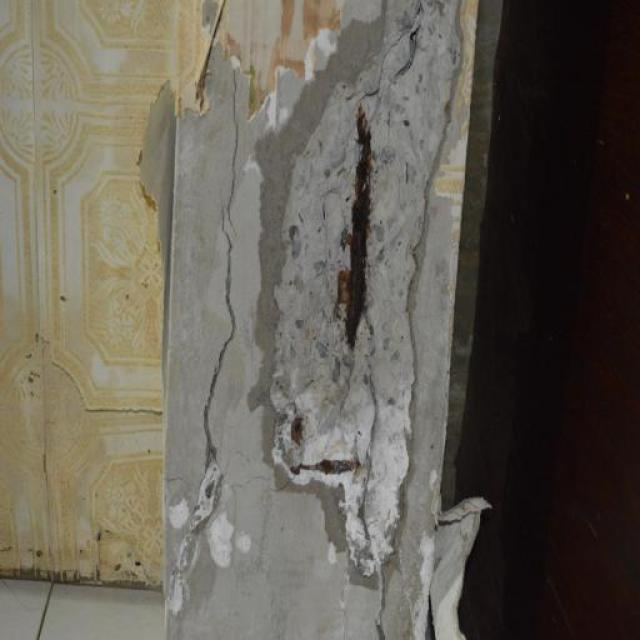D0w0: (270, 1, 460, 579)
